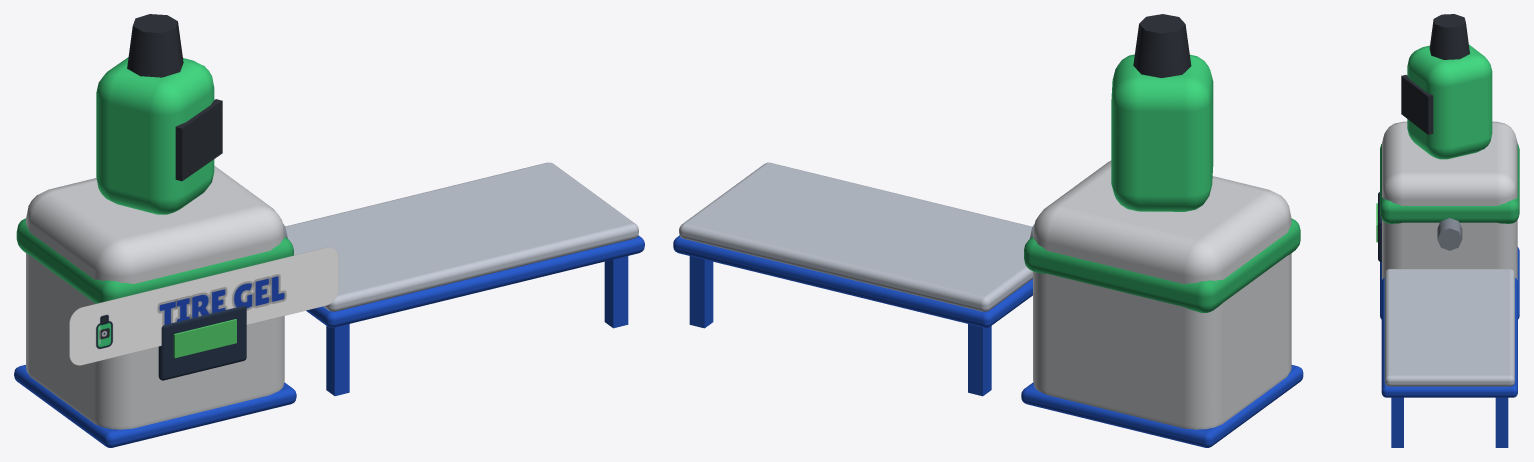
Rendered from rack_gel.glb.
3 views of the same model, side by side, from view 1: azimuth 30°, elevation 25°; view 2: azimuth 150°, elevation 25°; view 3: azimuth 270°, elevation 25° (orthographic). The views are drawn at different scales.
Parts seen in each view (by area): view 1: Rack_gel, Giant; view 2: Rack_gel, Giant; view 3: Rack_gel, Giant.
Boxes of the visible parts, x1,y1,x2,y2 form: Rack_gel: [14, 162, 644, 447]; Giant: [96, 14, 222, 214]; Rack_gel: [673, 160, 1303, 447]; Giant: [1111, 14, 1213, 211]; Rack_gel: [1376, 121, 1519, 447]; Giant: [1401, 14, 1492, 159].
Size of the model in its own units: 4.68 by 2.9 by 1.38.
Materials: 3 (1 with a texture image).
